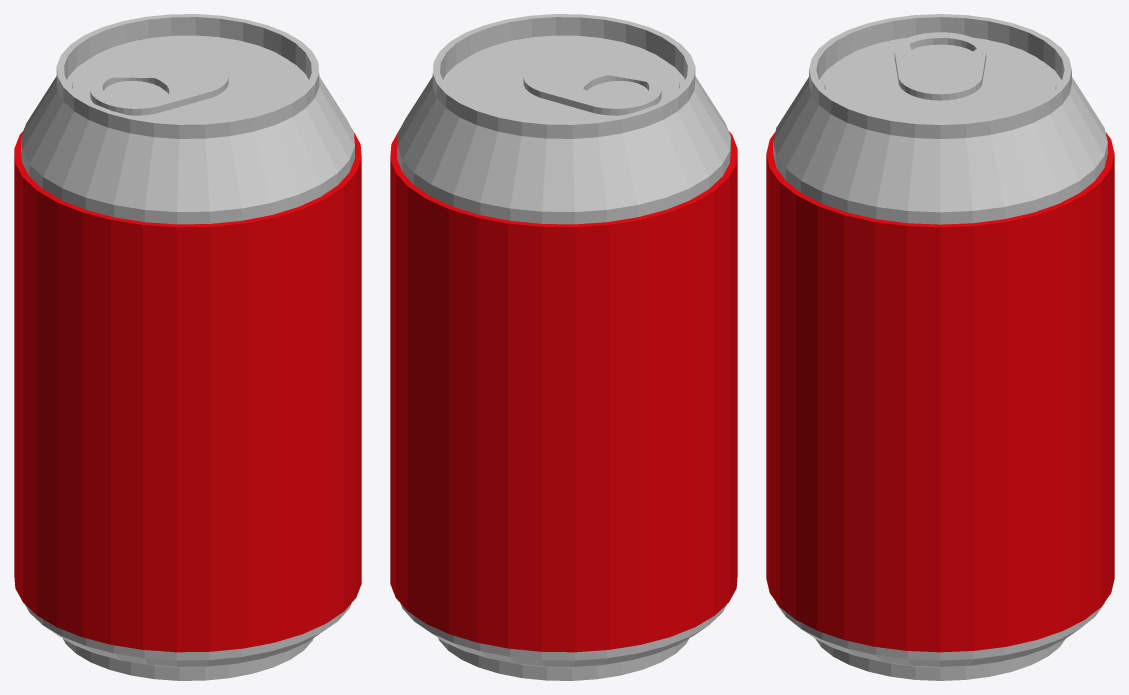
The model's file is Can_Vertical.fbx.
3 renders of one model, left to right at view 1: azimuth 30°, elevation 25°; view 2: azimuth 150°, elevation 25°; view 3: azimuth 270°, elevation 25°, orthographic.
Parts seen in each view (by area): view 1: Can - Vertical; view 2: Can - Vertical; view 3: Can - Vertical.
Part boxes in pixels (bbox=[...]): Can - Vertical: bbox=[14, 14, 361, 680]; Can - Vertical: bbox=[390, 14, 737, 680]; Can - Vertical: bbox=[766, 14, 1114, 680].
Bounding box in the file's own units: 107 × 190 × 107.
